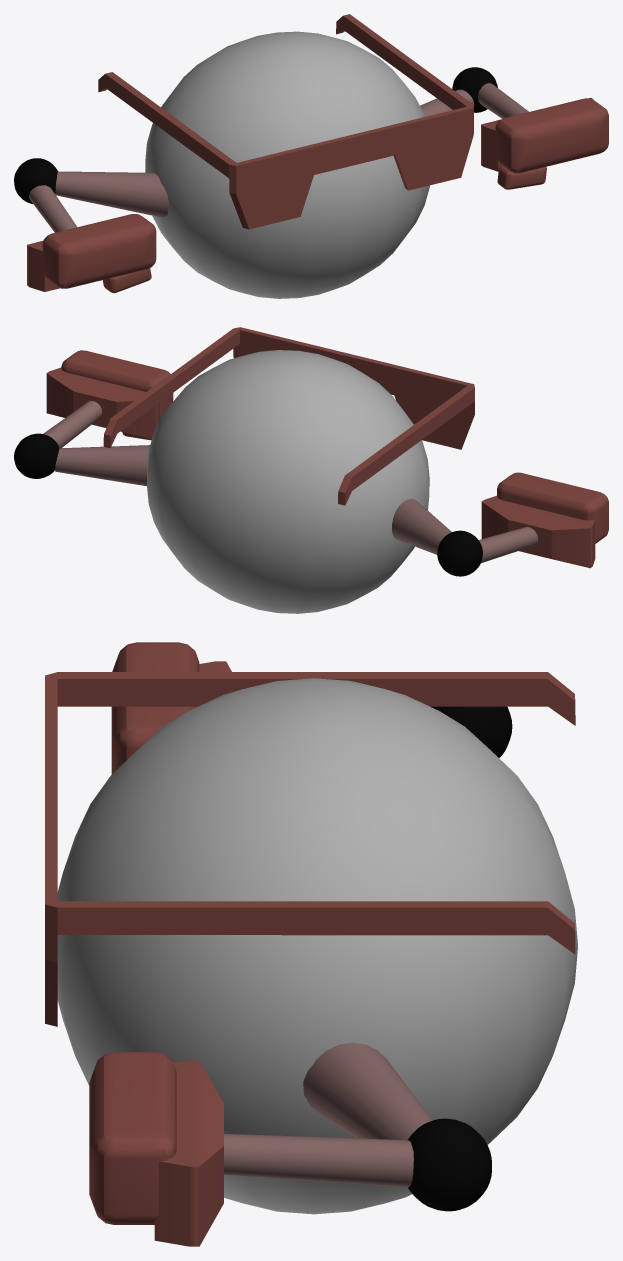
The model's file is Player 1 Char.fbx.
3 views of the same model, one above another, from view 1: azimuth 30°, elevation 25°; view 2: azimuth 150°, elevation 25°; view 3: azimuth 270°, elevation 25° (orthographic). The views are drawn at different scales.
Parts seen in each view (by area): view 1: pSphere1, pCube3, pCube4, pCube6, pCylinder3, pasted__pSphere5, pCylinder4, pCylinder2, pasted__pSphere1, pCube2, pCube7, pCube1 (+2 smaller); view 2: pSphere1, pCube3, pCube2, pCube1, pCube4, pCylinder1, pCube6, pCylinder3, pasted__pSphere5, pasted__pSphere1, pCylinder4, pCylinder2; view 3: pSphere1, pCube3, pCube6, pCube1, pCylinder2, pCylinder1, pasted__pSphere1, pCube4, pasted__pSphere5.
Part boxes in pixels (x1,y1,x2,y2): pSphere1: [145, 31, 429, 298]; pCube3: [98, 14, 473, 229]; pCube4: [42, 214, 156, 288]; pCube6: [495, 98, 608, 173]; pCylinder3: [55, 171, 168, 217]; pasted__pSphere5: [14, 158, 57, 203]; pCylinder4: [29, 185, 76, 232]; pCylinder2: [478, 83, 528, 118]; pasted__pSphere1: [452, 67, 497, 112]; pCube2: [27, 240, 59, 291]; pCube7: [497, 166, 546, 189]; pCube1: [481, 97, 593, 171]; pSphere1: [147, 350, 429, 613]; pCube3: [103, 327, 474, 505]; pCube2: [481, 495, 595, 568]; pCube1: [46, 367, 160, 438]; pCube4: [497, 472, 608, 543]; pCylinder1: [55, 445, 149, 486]; pCube6: [61, 350, 173, 418]; pCylinder3: [391, 499, 451, 554]; pasted__pSphere5: [437, 530, 482, 576]; pasted__pSphere1: [14, 433, 59, 478]; pCylinder4: [478, 527, 537, 563]; pCylinder2: [43, 401, 102, 448]; pSphere1: [57, 678, 577, 1214]; pCube3: [45, 672, 575, 1026]; pCube6: [89, 1052, 176, 1224]; pCube1: [154, 1060, 223, 1246]; pCylinder2: [224, 1133, 413, 1187]; pCylinder1: [303, 1042, 432, 1140]; pasted__pSphere1: [408, 1118, 491, 1211]; pCube4: [111, 642, 199, 774]; pasted__pSphere5: [430, 706, 512, 757].
Bounding box in the file's own units: 15.7 × 6.48 × 6.59.
